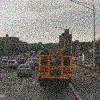buses: (36, 50, 76, 83)
